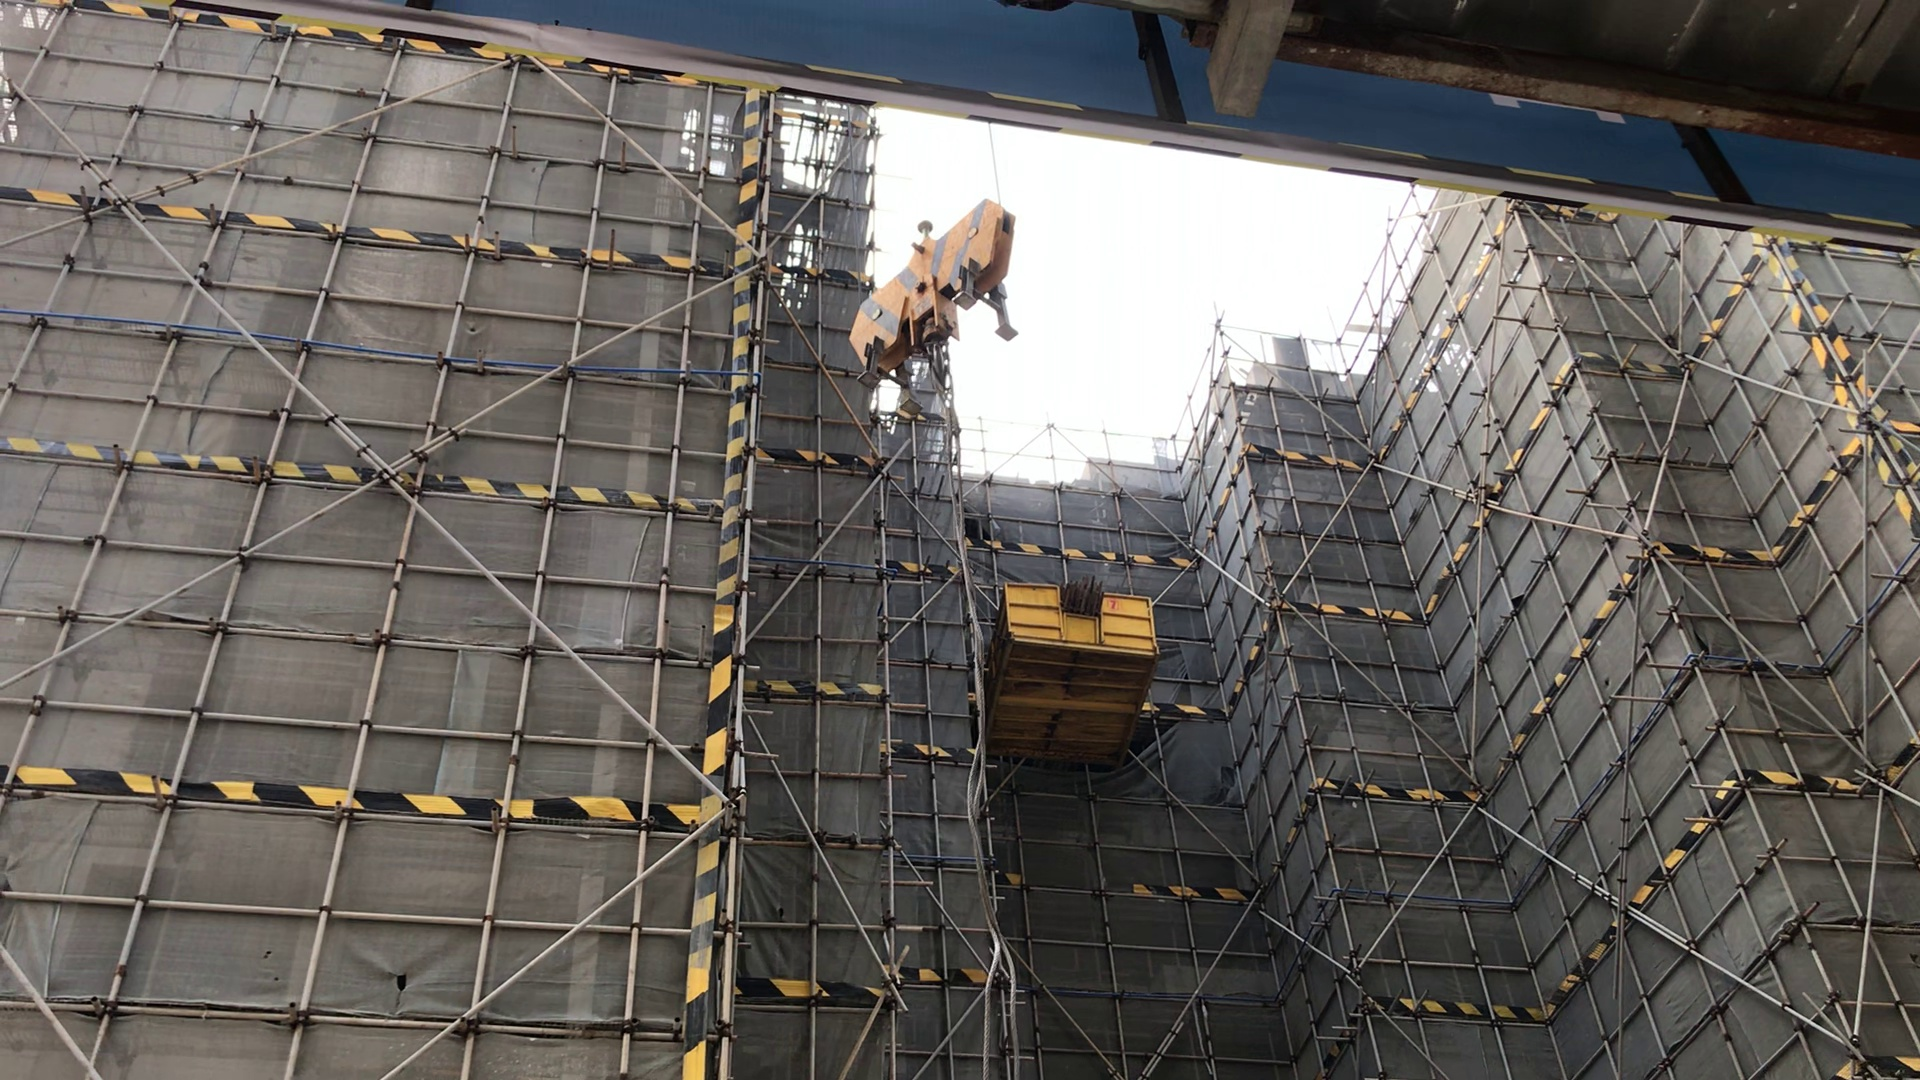hook: (822, 207, 1023, 371)
